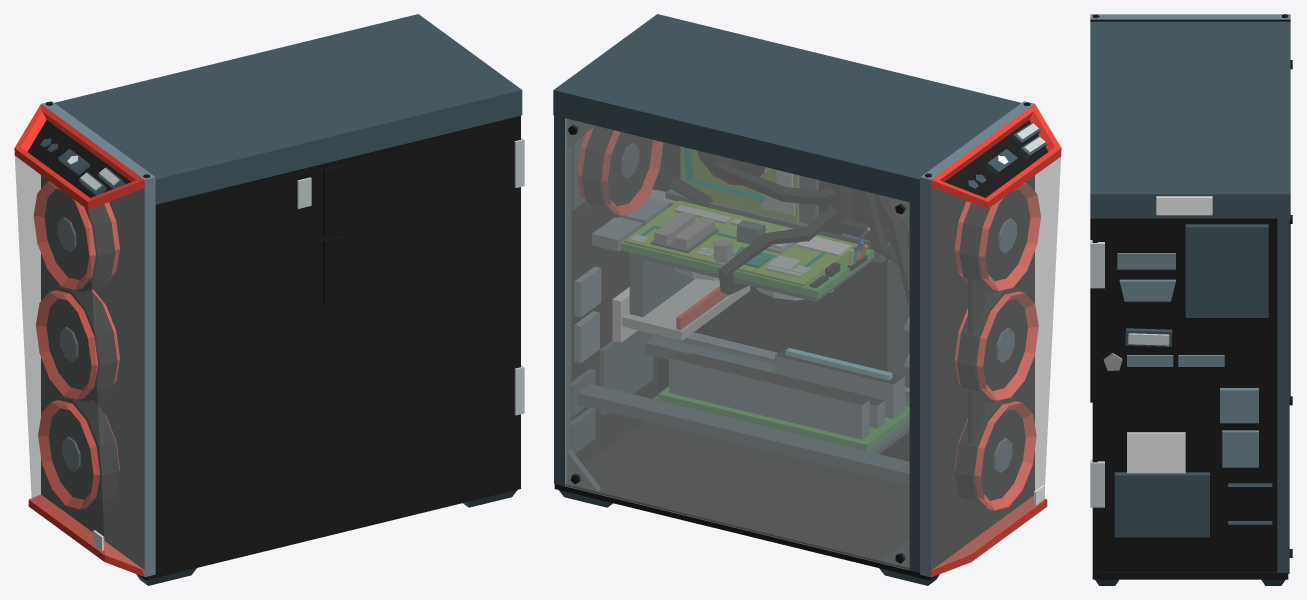
The model's file is gamingpc.obj.
The picture shows the model from 3 angles, left to right: view 1: azimuth 30°, elevation 25°; view 2: azimuth 150°, elevation 25°; view 3: azimuth 270°, elevation 25°; orthographic projection. The views are drawn at different scales.
Visible parts, largest first — view 1: group1851977708, group549538436, group706968164, group997898928, group614062749, group1403192981, group1882511964, group1874588551, group358629412, group1050079147, group1247630253; view 2: group1867655503, group549538436, group706968164, group358629412, group1851977708, group997898928, group148538432, group1586564780, group614062749, group1403192981, group1882511964, group1179872976 (+37 smaller); view 3: group706968164, group1179872976, group335831164, group1800416953, group2083473735, group1033487155, group997898928, group1851977708, group358629412, group172225094, group1693732898, group761930540 (+9 smaller).
Boxes of the visible parts, x1=… form: group1851977708: x1=155, y1=115, x2=520, y2=573; group549538436: x1=14, y1=104, x2=144, y2=575; group706968164: x1=54, y1=14, x2=522, y2=204; group997898928: x1=41, y1=101, x2=155, y2=576; group614062749: x1=36, y1=285, x2=119, y2=401; group1403192981: x1=38, y1=395, x2=119, y2=511; group1882511964: x1=33, y1=181, x2=119, y2=291; group1874588551: x1=28, y1=494, x2=144, y2=576; group358629412: x1=139, y1=484, x2=520, y2=580; group1050079147: x1=323, y1=163, x2=348, y2=234; group1247630253: x1=323, y1=235, x2=348, y2=303; group1867655503: x1=565, y1=118, x2=909, y2=569; group549538436: x1=931, y1=104, x2=1061, y2=570; group706968164: x1=553, y1=14, x2=1020, y2=204; group358629412: x1=554, y1=421, x2=937, y2=580; group1851977708: x1=658, y1=142, x2=909, y2=461; group997898928: x1=920, y1=101, x2=1034, y2=577; group148538432: x1=669, y1=353, x2=869, y2=439; group1586564780: x1=578, y1=384, x2=909, y2=485; group614062749: x1=954, y1=286, x2=1038, y2=402; group1403192981: x1=954, y1=396, x2=1036, y2=512; group1882511964: x1=954, y1=182, x2=1040, y2=292; group1179872976: x1=571, y1=177, x2=657, y2=464; group706968164: x1=1090, y1=21, x2=1290, y2=218; group1179872976: x1=1097, y1=218, x2=1277, y2=571; group335831164: x1=1185, y1=224, x2=1268, y2=317; group1800416953: x1=1114, y1=472, x2=1209, y2=537; group2083473735: x1=1277, y1=218, x2=1289, y2=573; group1033487155: x1=1127, y1=432, x2=1185, y2=473; group997898928: x1=1090, y1=14, x2=1290, y2=402; group1851977708: x1=1092, y1=218, x2=1097, y2=572; group358629412: x1=1092, y1=572, x2=1288, y2=579; group172225094: x1=1228, y1=483, x2=1272, y2=515; group1693732898: x1=1228, y1=521, x2=1272, y2=553; group761930540: x1=1222, y1=430, x2=1258, y2=467.
Bounding box in the file's own units: 1.94 × 1.8 × 0.8277.
